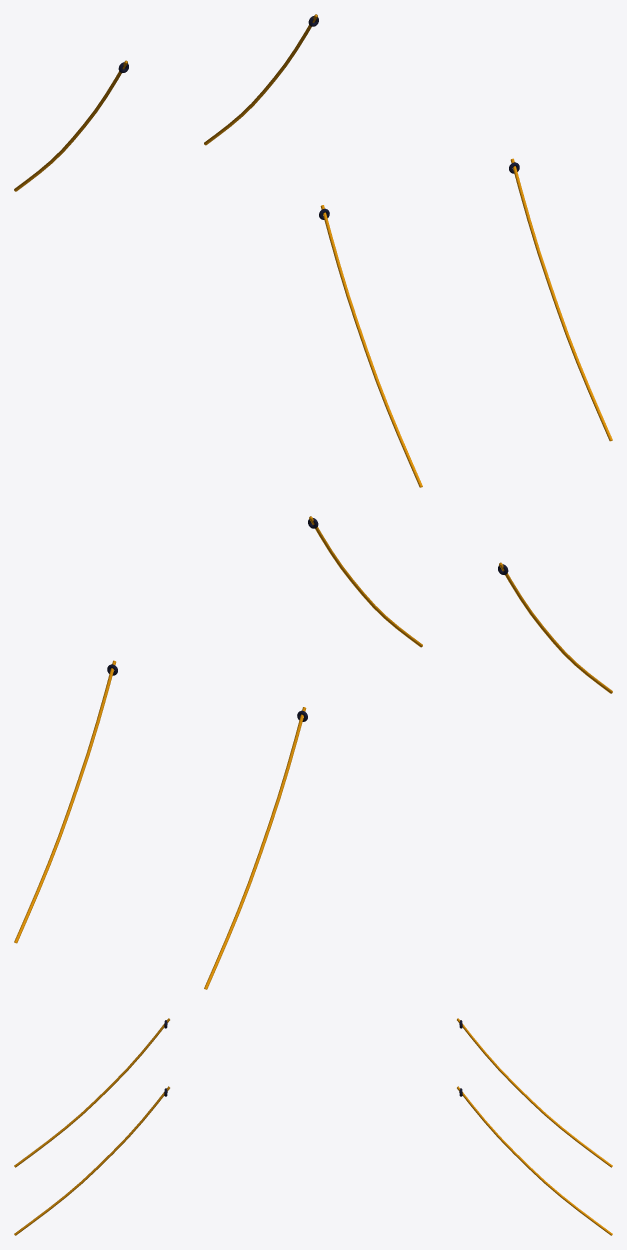
The model's file is ropes_FBX.fbx.
3 views of the same model, one above another, from view 1: azimuth 30°, elevation 25°; view 2: azimuth 150°, elevation 25°; view 3: azimuth 270°, elevation 25° (orthographic). The views are drawn at different scales.
Parts seen in each view (by area): view 1: polySurface2906, polySurface2905, polySurface2907, polySurface2898; view 2: polySurface2907, polySurface2898, polySurface2906, polySurface2905; view 3: polySurface2906, polySurface2907, polySurface2898, polySurface2905.
Boxes of the visible parts, x1=… form: polySurface2906: x1=319, y1=205, x2=422, y2=487; polySurface2905: x1=509, y1=158, x2=612, y2=441; polySurface2907: x1=14, y1=60, x2=128, y2=191; polySurface2898: x1=204, y1=14, x2=318, y2=145; polySurface2907: x1=204, y1=707, x2=307, y2=989; polySurface2898: x1=14, y1=660, x2=117, y2=943; polySurface2906: x1=498, y1=562, x2=612, y2=693; polySurface2905: x1=308, y1=516, x2=422, y2=647; polySurface2906: x1=14, y1=1018, x2=169, y2=1167; polySurface2907: x1=457, y1=1018, x2=612, y2=1167; polySurface2898: x1=457, y1=1086, x2=612, y2=1235; polySurface2905: x1=14, y1=1086, x2=169, y2=1235.
Bounding box in the file's own units: 3372 × 3274 × 11759.
